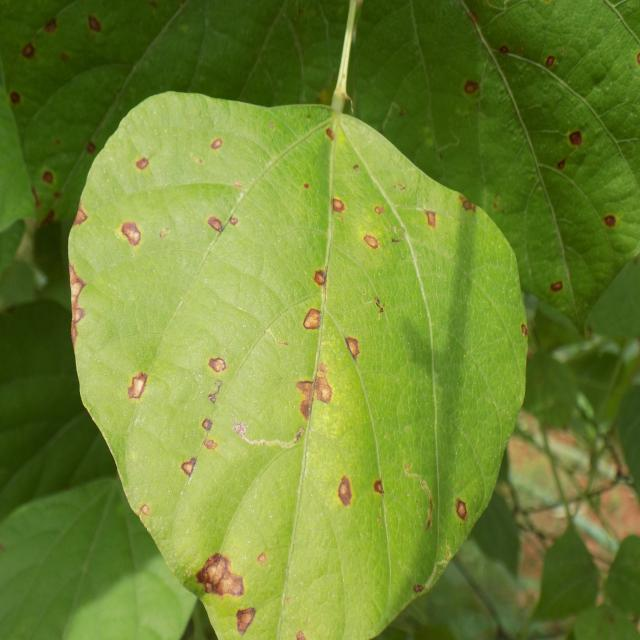Dolicos bean_cercospora leaf spot: (70, 93, 532, 640)
